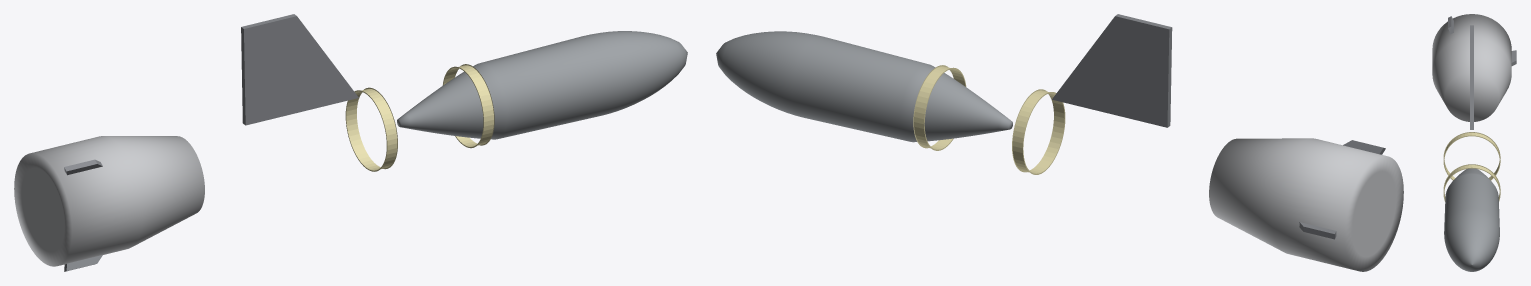
Rendered from RU_ASM_P120_LOD0.fbx.
The picture shows the model from 3 angles, left to right: view 1: azimuth 30°, elevation 25°; view 2: azimuth 150°, elevation 25°; view 3: azimuth 270°, elevation 25°; orthographic projection. The views are drawn at different scales.
Parts seen in each view (by area): view 1: WPN_RU_ASM_P120_LOD0_Tail, WPN_RU_ASM_P120_LOD0_Body, WPN_RU_ASM_P120_LOD0_Wings, WPN_RU_ASM_P120_LOD0_Marking, WPN_RU_ASM_P120_LOD0_Fins; view 2: WPN_RU_ASM_P120_LOD0_Tail, WPN_RU_ASM_P120_LOD0_Body, WPN_RU_ASM_P120_LOD0_Wings, WPN_RU_ASM_P120_LOD0_Marking, WPN_RU_ASM_P120_LOD0_Fins; view 3: WPN_RU_ASM_P120_LOD0_Tail, WPN_RU_ASM_P120_LOD0_Body, WPN_RU_ASM_P120_LOD0_Marking, WPN_RU_ASM_P120_LOD0_Wings, WPN_RU_ASM_P120_LOD0_Fins.
Boxes of the visible parts, x1,y1,x2,y2 form: WPN_RU_ASM_P120_LOD0_Tail: (14, 136, 204, 266); WPN_RU_ASM_P120_LOD0_Body: (397, 31, 687, 139); WPN_RU_ASM_P120_LOD0_Wings: (241, 14, 358, 125); WPN_RU_ASM_P120_LOD0_Marking: (345, 64, 494, 171); WPN_RU_ASM_P120_LOD0_Fins: (64, 159, 102, 271); WPN_RU_ASM_P120_LOD0_Tail: (1209, 138, 1403, 271); WPN_RU_ASM_P120_LOD0_Body: (716, 31, 1012, 142); WPN_RU_ASM_P120_LOD0_Wings: (1052, 14, 1172, 127); WPN_RU_ASM_P120_LOD0_Marking: (913, 65, 1065, 174); WPN_RU_ASM_P120_LOD0_Fins: (1299, 140, 1385, 239); WPN_RU_ASM_P120_LOD0_Tail: (1432, 14, 1511, 121); WPN_RU_ASM_P120_LOD0_Body: (1444, 168, 1499, 271); WPN_RU_ASM_P120_LOD0_Marking: (1443, 132, 1500, 201); WPN_RU_ASM_P120_LOD0_Wings: (1470, 25, 1473, 129); WPN_RU_ASM_P120_LOD0_Fins: (1448, 16, 1516, 65).
Bounding box in the file's own units: 5 × 0.8287 × 1.38.
